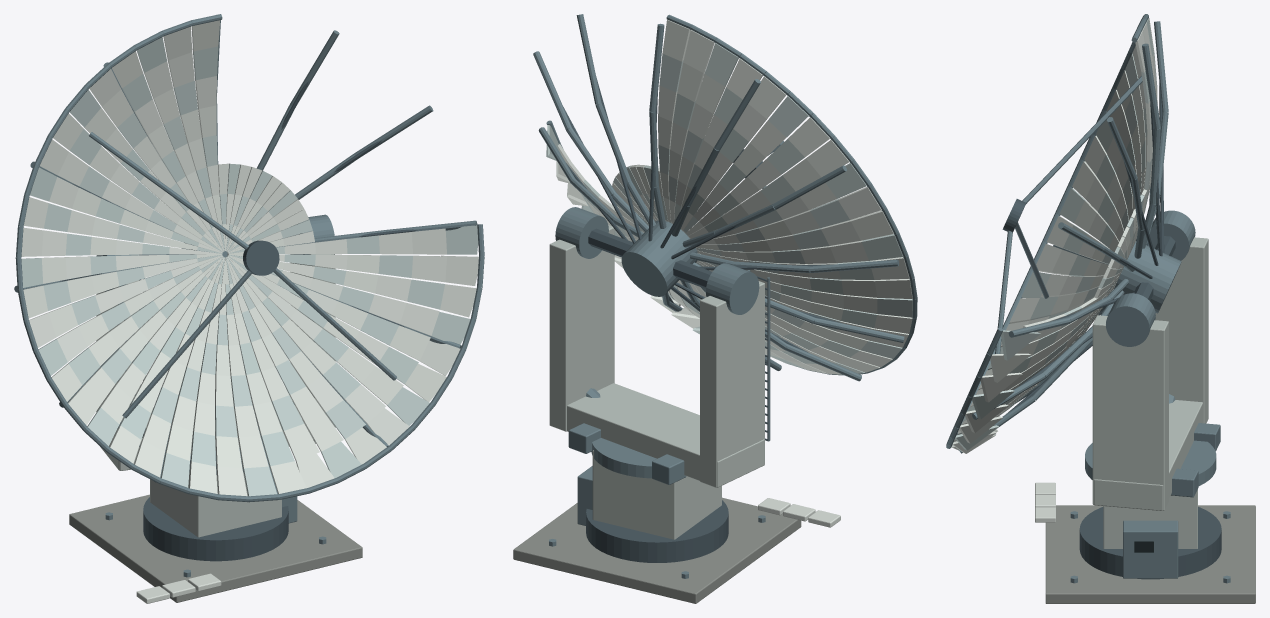
File: skyward_medium_d2.glb
3 renders of one model, left to right at view 1: azimuth 30°, elevation 25°; view 2: azimuth 150°, elevation 25°; view 3: azimuth 270°, elevation 25°, orthographic. The views are drawn at different scales.
Visible parts, largest first — view 1: Geometry_ELEVATION.006_Reflector / warm ceramic, Geometry_ELEVATION.006_Reflector / alternate panel, Geometry_ELEVATION.006_Structural frame / blue steel, Concrete octagonal pad.006, Foundation bearing.006, Pedestal.006, Geometry_ELEVATION.006_Edge metal / graphite, Geometry_ROOT.006_Reflector / warm ceramic, Geometry_AZIMUTH.006_Ceramic armor / limestone, Geometry_AZIMUTH.006_Structural frame / blue steel; view 2: Geometry_ELEVATION.006_Reflector / warm ceramic, Geometry_AZIMUTH.006_Ceramic armor / limestone, Geometry_ELEVATION.006_Reflector / alternate panel, Geometry_ELEVATION.006_Structural frame / blue steel, Concrete octagonal pad.006, Geometry_AZIMUTH.006_Structural frame / blue steel, Pedestal.006, Foundation bearing.006, Geometry_ELEVATION.006_Edge metal / graphite, Geometry_ROOT.006_Reflector / warm ceramic, Geometry_ROOT.006_Structural frame / blue steel; view 3: Geometry_AZIMUTH.006_Ceramic armor / limestone, Geometry_ELEVATION.006_Reflector / warm ceramic, Geometry_ELEVATION.006_Structural frame / blue steel, Concrete octagonal pad.006, Geometry_ELEVATION.006_Reflector / alternate panel, Geometry_AZIMUTH.006_Structural frame / blue steel, Foundation bearing.006, Geometry_ROOT.006_Structural frame / blue steel, Pedestal.006, Geometry_ELEVATION.006_Edge metal / graphite, Geometry_ROOT.006_Reflector / warm ceramic.
Boxes of the visible parts, <box> form: Geometry_ELEVATION.006_Reflector / warm ceramic: <box>21,20,478,496</box>; Geometry_ELEVATION.006_Reflector / alternate panel: <box>21,37,478,496</box>; Geometry_ELEVATION.006_Structural frame / blue steel: <box>14,14,484,502</box>; Concrete octagonal pad.006: <box>69,494,362,602</box>; Foundation bearing.006: <box>143,497,288,561</box>; Pedestal.006: <box>150,472,281,537</box>; Geometry_ELEVATION.006_Edge metal / graphite: <box>60,74,417,438</box>; Geometry_ROOT.006_Reflector / warm ceramic: <box>136,573,221,603</box>; Geometry_AZIMUTH.006_Ceramic armor / limestone: <box>96,254,335,470</box>; Geometry_AZIMUTH.006_Structural frame / blue steel: <box>96,214,334,474</box>; Geometry_ELEVATION.006_Reflector / warm ceramic: <box>556,19,912,374</box>; Geometry_AZIMUTH.006_Ceramic armor / limestone: <box>549,225,764,487</box>; Geometry_ELEVATION.006_Reflector / alternate panel: <box>546,43,912,373</box>; Geometry_ELEVATION.006_Structural frame / blue steel: <box>533,14,917,381</box>; Concrete octagonal pad.006: <box>513,497,801,603</box>; Geometry_AZIMUTH.006_Structural frame / blue steel: <box>555,207,770,484</box>; Pedestal.006: <box>592,450,721,539</box>; Foundation bearing.006: <box>586,500,728,562</box>; Geometry_ELEVATION.006_Edge metal / graphite: <box>562,77,841,352</box>; Geometry_ROOT.006_Reflector / warm ceramic: <box>758,498,840,527</box>; Geometry_ROOT.006_Structural frame / blue steel: <box>549,466,765,578</box>; Geometry_AZIMUTH.006_Ceramic armor / limestone: <box>1092,237,1208,510</box>; Geometry_ELEVATION.006_Reflector / warm ceramic: <box>951,18,1157,453</box>; Geometry_ELEVATION.006_Structural frame / blue steel: <box>946,14,1181,453</box>; Concrete octagonal pad.006: <box>1045,505,1255,603</box>; Geometry_ELEVATION.006_Reflector / alternate panel: <box>955,18,1157,450</box>; Geometry_AZIMUTH.006_Structural frame / blue steel: <box>1085,210,1220,497</box>; Foundation bearing.006: <box>1079,507,1221,579</box>; Geometry_ROOT.006_Structural frame / blue steel: <box>1070,511,1230,583</box>; Pedestal.006: <box>1103,489,1197,548</box>; Geometry_ELEVATION.006_Edge metal / graphite: <box>1002,83,1175,413</box>; Geometry_ROOT.006_Reflector / warm ceramic: <box>1035,482,1055,522</box>.
Bounding box in the file's own units: 17.93 × 21.86 × 11.78.
